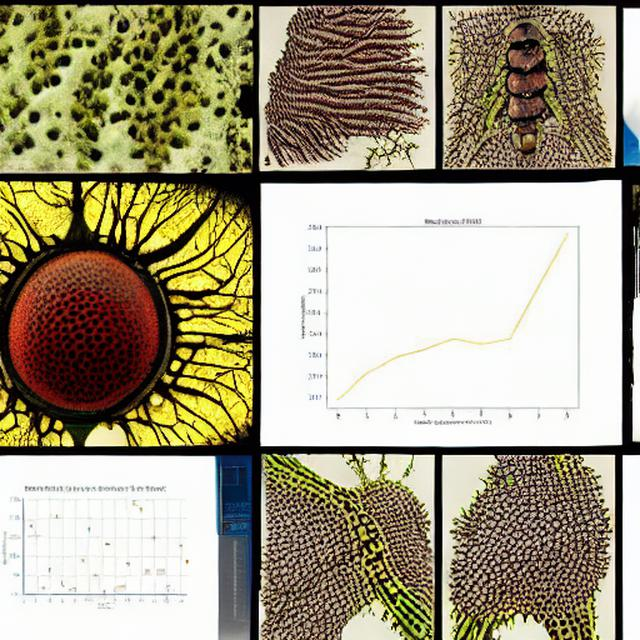Graph: (277, 198, 620, 434), (0, 484, 194, 612)
